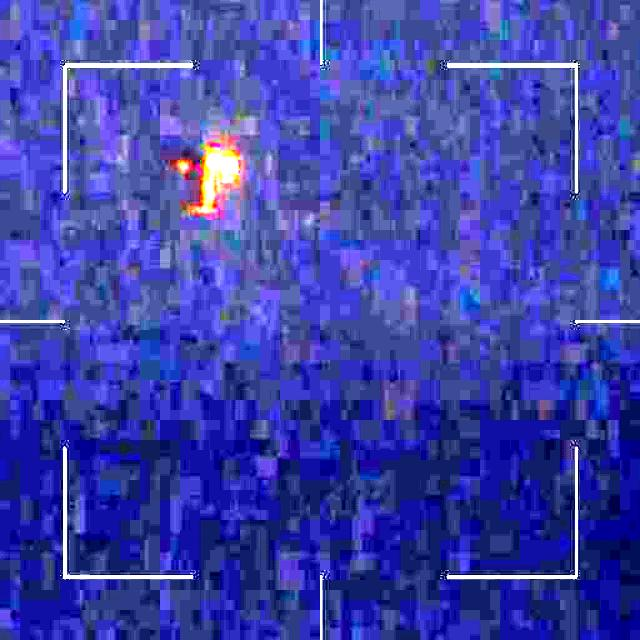bird: (172, 141, 249, 220)
